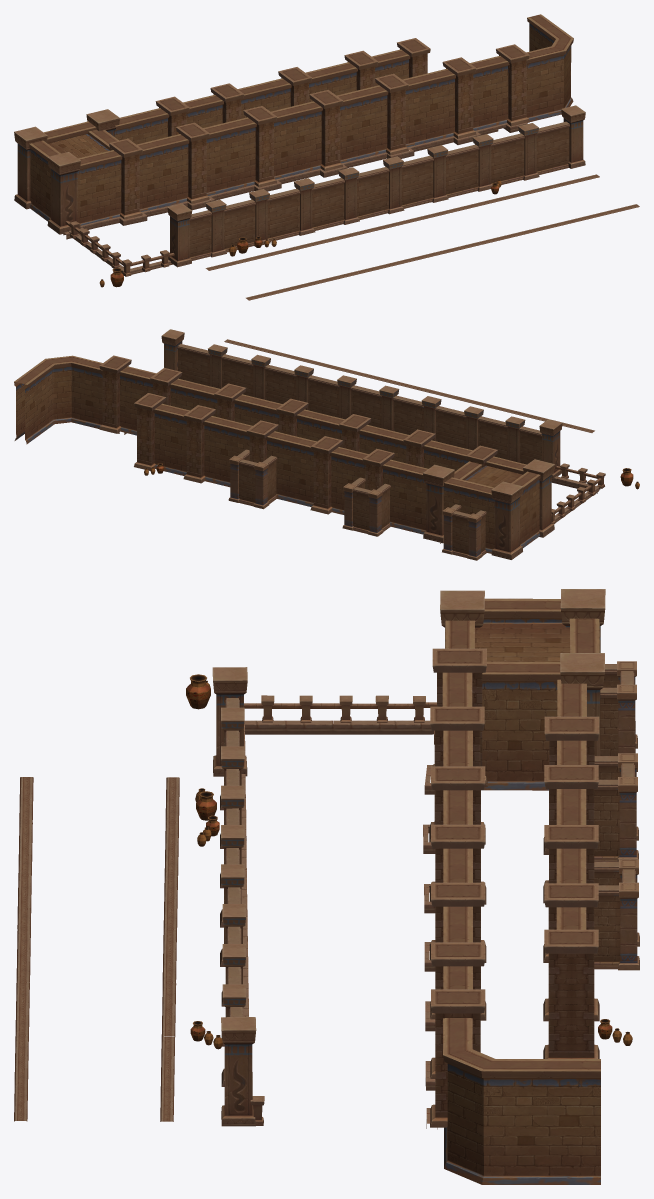
File: Area_06_1.FBX
The picture shows the model from 3 angles, top to bottom: view 1: azimuth 30°, elevation 25°; view 2: azimuth 150°, elevation 25°; view 3: azimuth 270°, elevation 25°; orthographic projection. The views are drawn at different scales.
Parts seen in each view (by area): view 1: Area_06_1; view 2: Area_06_1; view 3: Area_06_1.
Boxes of the visible parts, left/top/right/bottom form: Area_06_1: left=14, top=14, right=639, bottom=300; Area_06_1: left=14, top=329, right=639, bottom=560; Area_06_1: left=14, top=589, right=639, bottom=1184.
Size of the model in its own units: 6540 by 844 by 3559.
